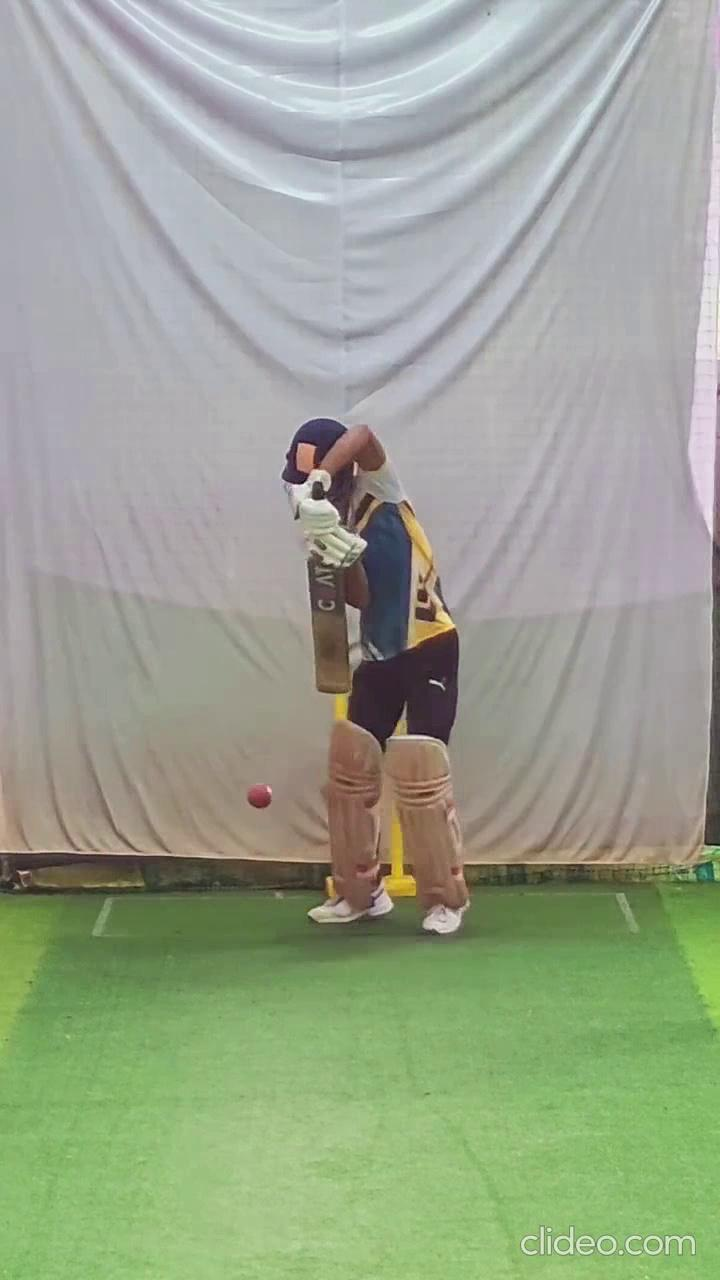bat: (306, 555, 353, 698)
